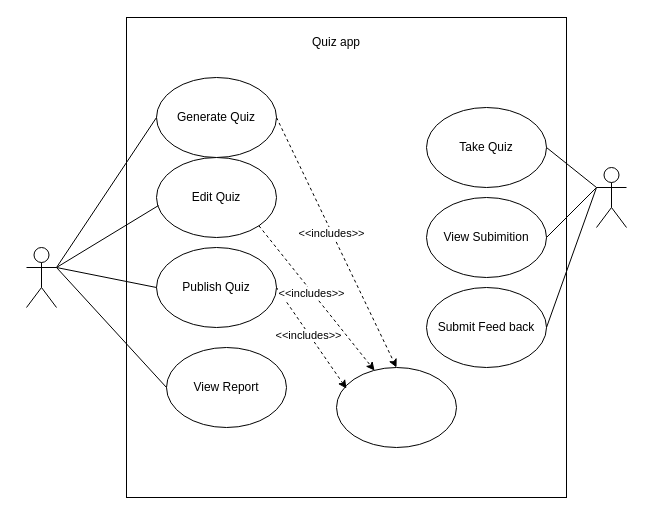
This 654x515 diagram has some shape labels left out. The centre of each missing label's shape, as x and y in pixels:
"Recruitee" belongs at point 611,197.
"Recruiter" belongs at point 41,277.
"Save/Update Quiz" belongs at point 396,407.
